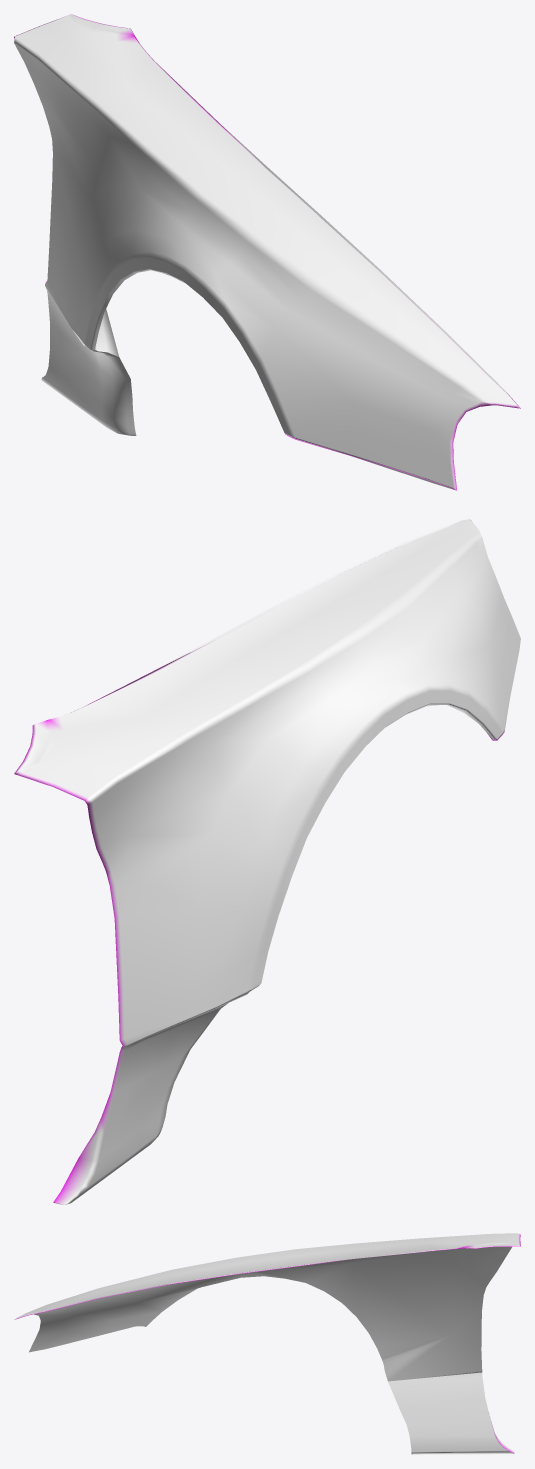
File: Car_Nissan_SkylineGTRVspecR34_1999_FenderFR_SetF.fbx
3 renders of one model, top to bottom at view 1: azimuth 30°, elevation 25°; view 2: azimuth 150°, elevation 25°; view 3: azimuth 270°, elevation 25°, orthographic. The views are drawn at different scales.
Parts seen in each view (by area): view 1: FenderFR 6; view 2: FenderFR 6; view 3: FenderFR 6.
Boxes of the visible parts, left/top/right/bottom form: FenderFR 6: left=14, top=14, right=520, bottom=490; FenderFR 6: left=14, top=519, right=520, bottom=1204; FenderFR 6: left=14, top=1233, right=520, bottom=1454.
Bounding box in the file's own units: 0.2415 × 0.6197 × 1.29.
